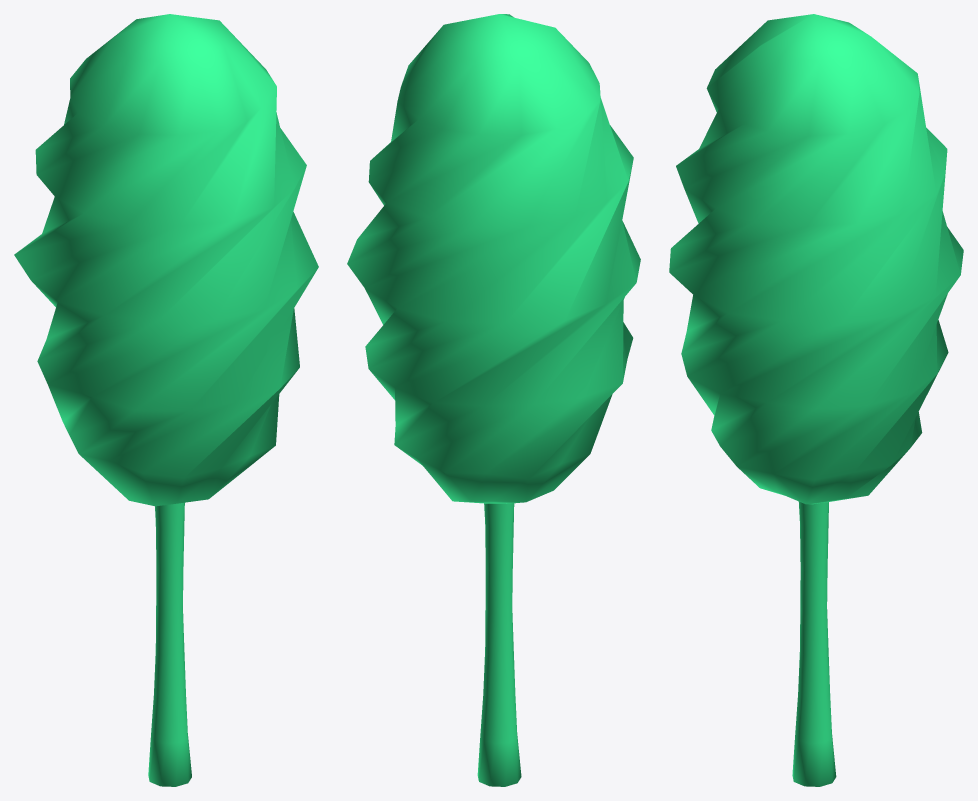
The model's file is tree1.dae.
3 renders of one model, left to right at view 1: azimuth 30°, elevation 25°; view 2: azimuth 150°, elevation 25°; view 3: azimuth 270°, elevation 25°, orthographic.
Visible parts, largest first — view 1: g tree leaves leaves1, g tree trunk trunk1; view 2: g tree leaves leaves1, g tree trunk trunk1; view 3: g tree leaves leaves1, g tree trunk trunk1.
Boxes of the visible parts, x1,y1,x2,y2 form: g tree leaves leaves1: [14, 14, 318, 506]; g tree trunk trunk1: [148, 502, 191, 786]; g tree leaves leaves1: [347, 14, 640, 503]; g tree trunk trunk1: [477, 503, 521, 786]; g tree leaves leaves1: [669, 14, 963, 504]; g tree trunk trunk1: [792, 501, 836, 786].
Bounding box in the file's own units: 140 × 402 × 140.
